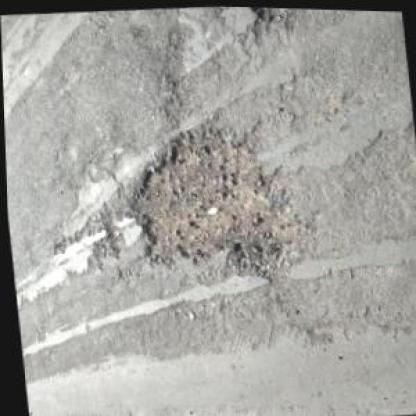pothole: (119, 115, 302, 284)
